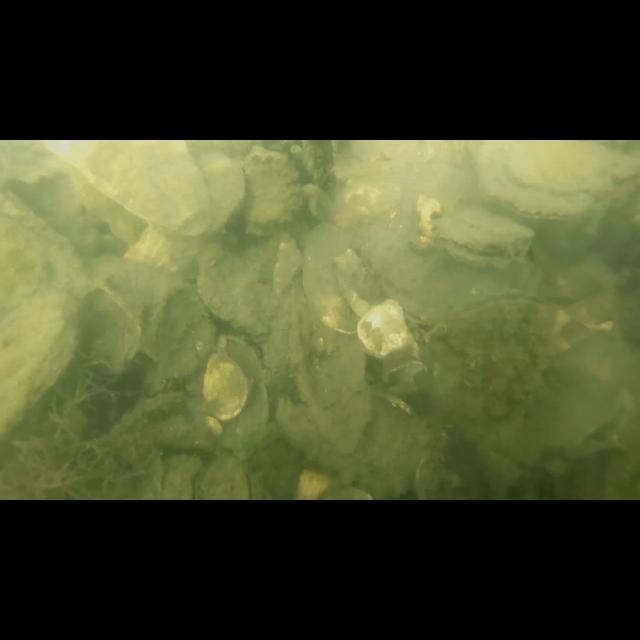Oyster-Closed: (0, 188, 86, 444), (122, 151, 250, 277), (42, 140, 212, 234), (275, 398, 431, 497), (468, 140, 640, 222), (287, 295, 373, 449), (197, 244, 285, 340), (302, 222, 373, 334), (143, 274, 214, 378), (237, 146, 305, 234), (358, 297, 419, 368), (200, 354, 248, 418), (204, 452, 252, 500)
Oyster-Open: (425, 289, 561, 421), (436, 203, 534, 271)
